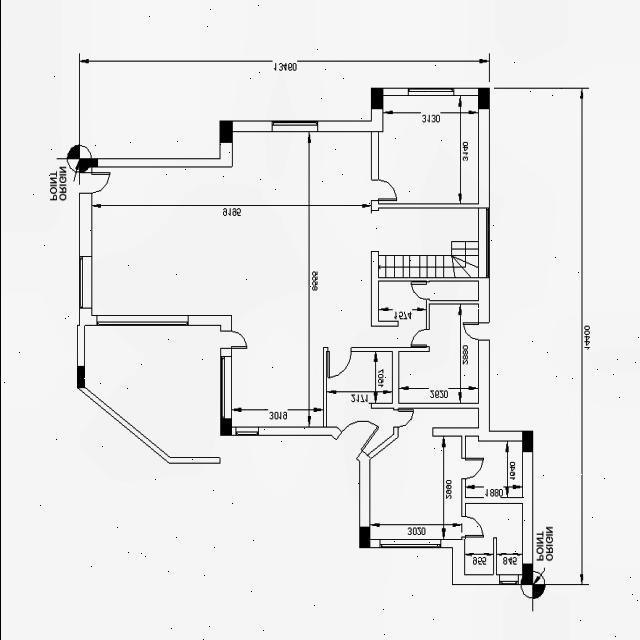Column: (218, 120, 232, 143), (477, 88, 489, 110), (370, 88, 382, 110), (358, 526, 370, 548), (522, 430, 532, 452), (219, 418, 231, 436), (522, 564, 532, 585), (79, 158, 97, 168), (76, 366, 84, 388)
Door: (334, 407, 380, 461), (326, 346, 351, 378), (78, 172, 109, 194), (370, 180, 396, 201), (219, 331, 246, 349), (460, 516, 482, 538), (460, 458, 482, 480), (462, 322, 488, 340), (392, 410, 412, 428), (410, 329, 429, 347), (409, 282, 428, 300)
Staircase: (378, 242, 478, 278)
Window: (96, 315, 188, 325), (477, 208, 489, 278), (219, 356, 231, 418), (78, 256, 91, 308), (378, 539, 441, 548), (271, 120, 317, 132), (407, 88, 453, 96), (235, 427, 258, 436), (498, 574, 518, 584)
